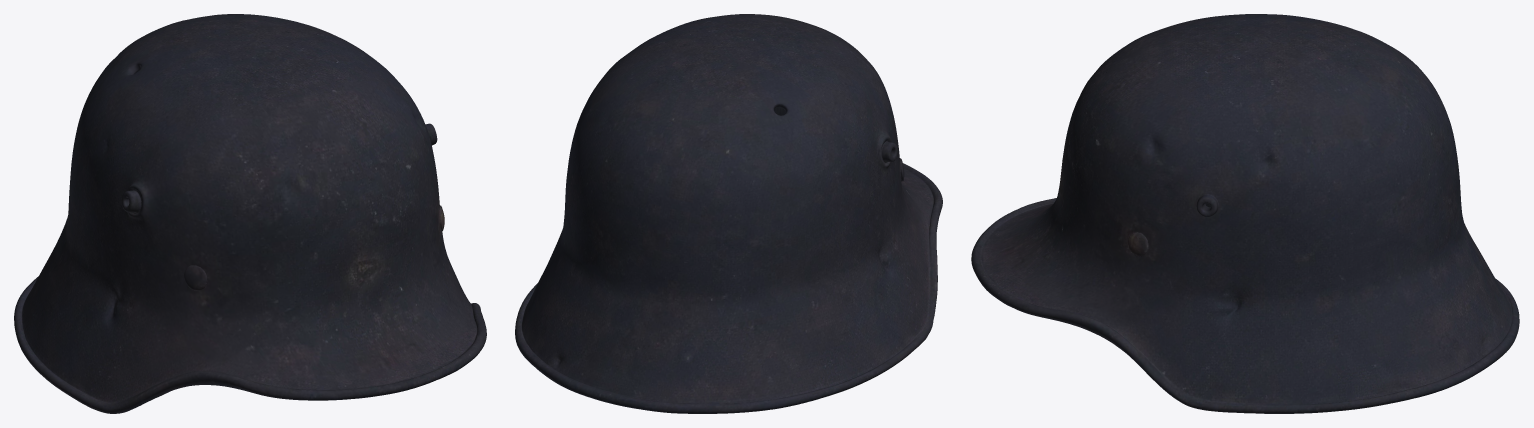
File: sljem.glb
3 views of the same model, side by side, from view 1: azimuth 30°, elevation 25°; view 2: azimuth 150°, elevation 25°; view 3: azimuth 270°, elevation 25° (orthographic). The views are drawn at different scales.
Size of the model in its own units: 1.49 by 1.11 by 1.9.
1 material, 1 textured.
